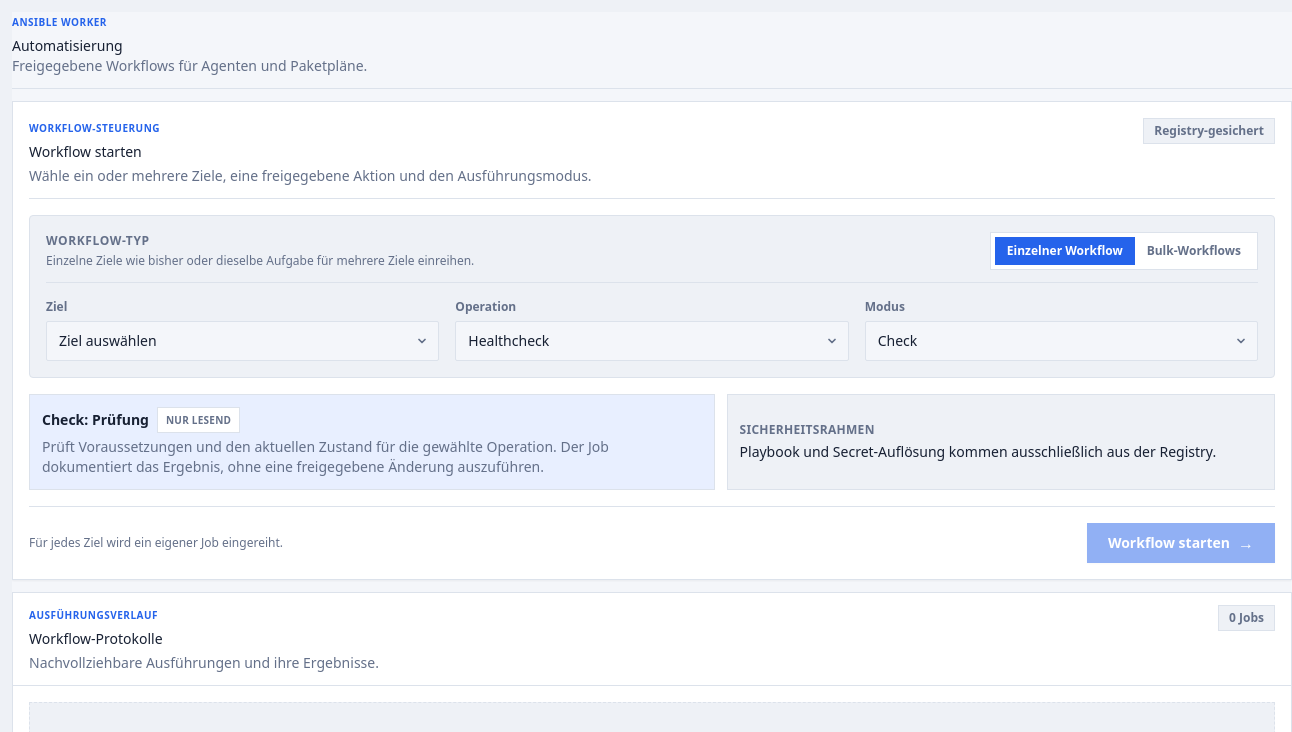
workflow mode contract › keeps Apply disabled until the user explicitly confirms the target and scope
Select "lxc-test · lxc · 192.0.2.1" in the dropdown labelled "Ziel" at (243, 341), box [46,321,439,361]
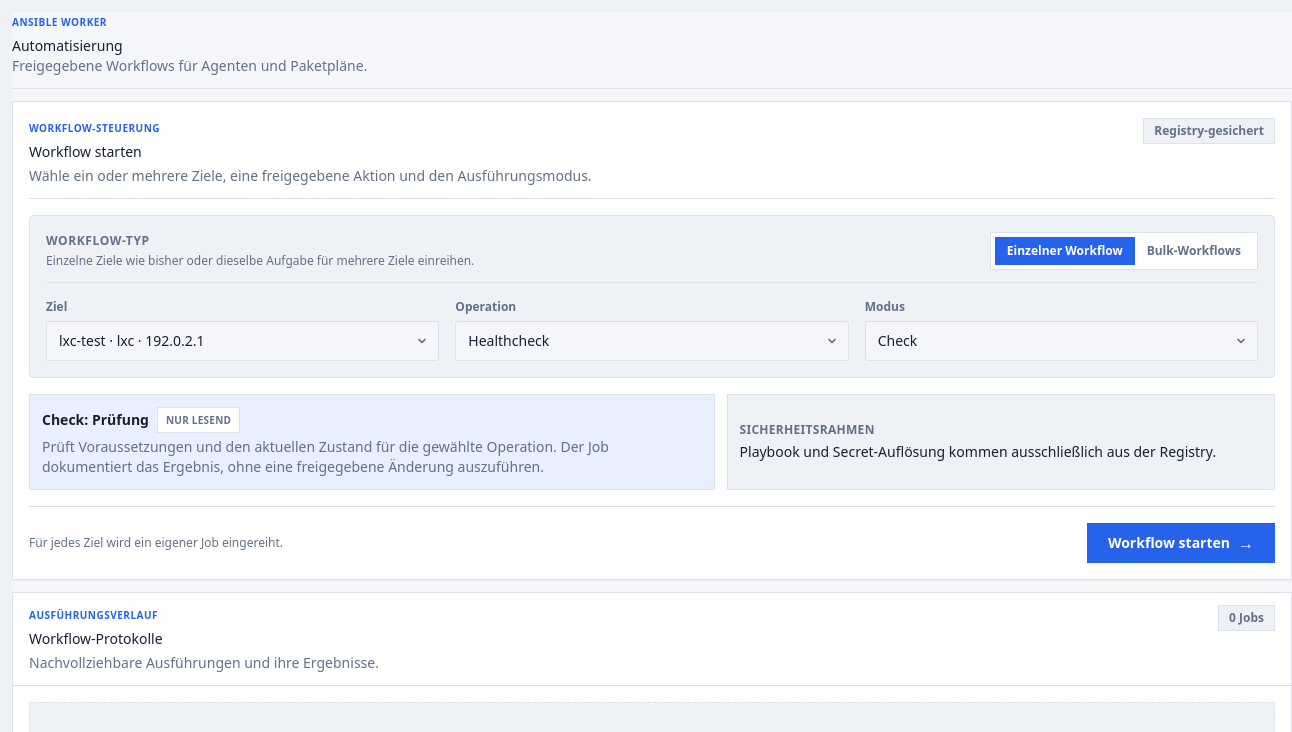
Select "Agent installieren" in the dropdown labelled "Operation" at (652, 341), box [455,321,849,361]
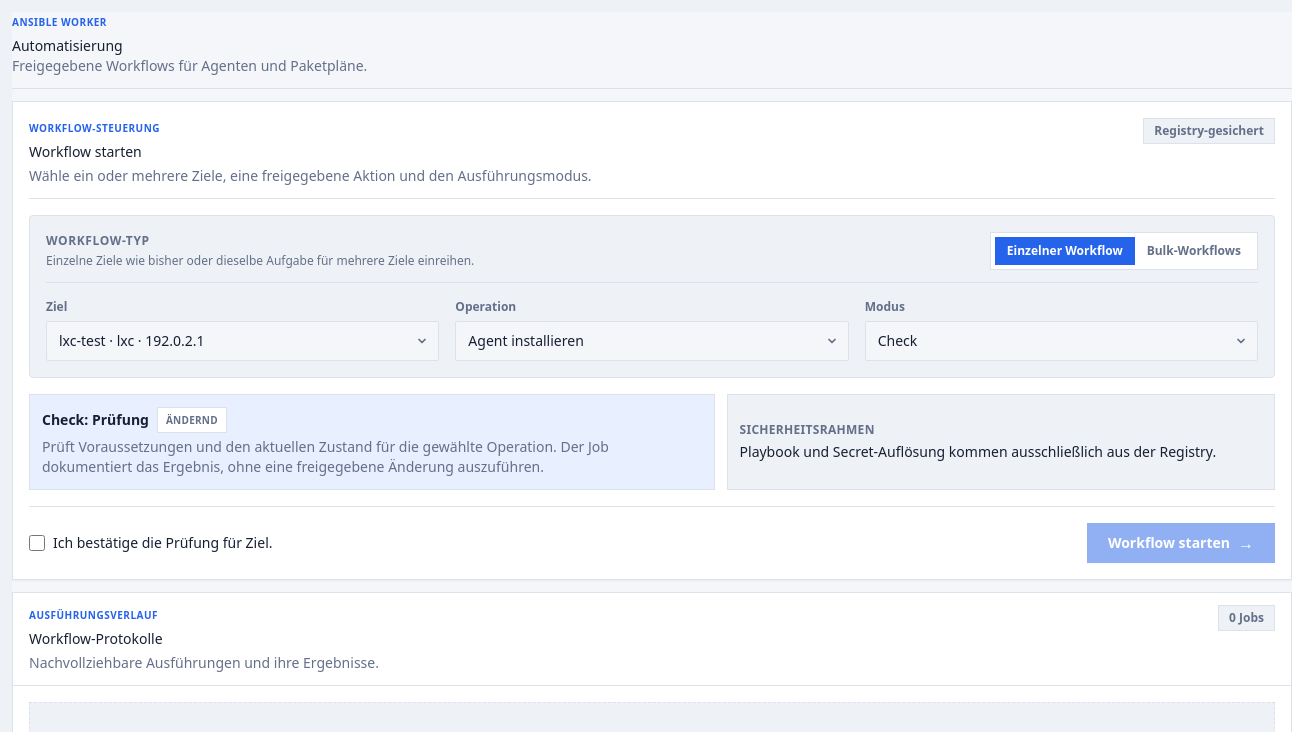
Select "Apply" in the dropdown labelled "Modus" at (1061, 341), box [865,321,1258,361]
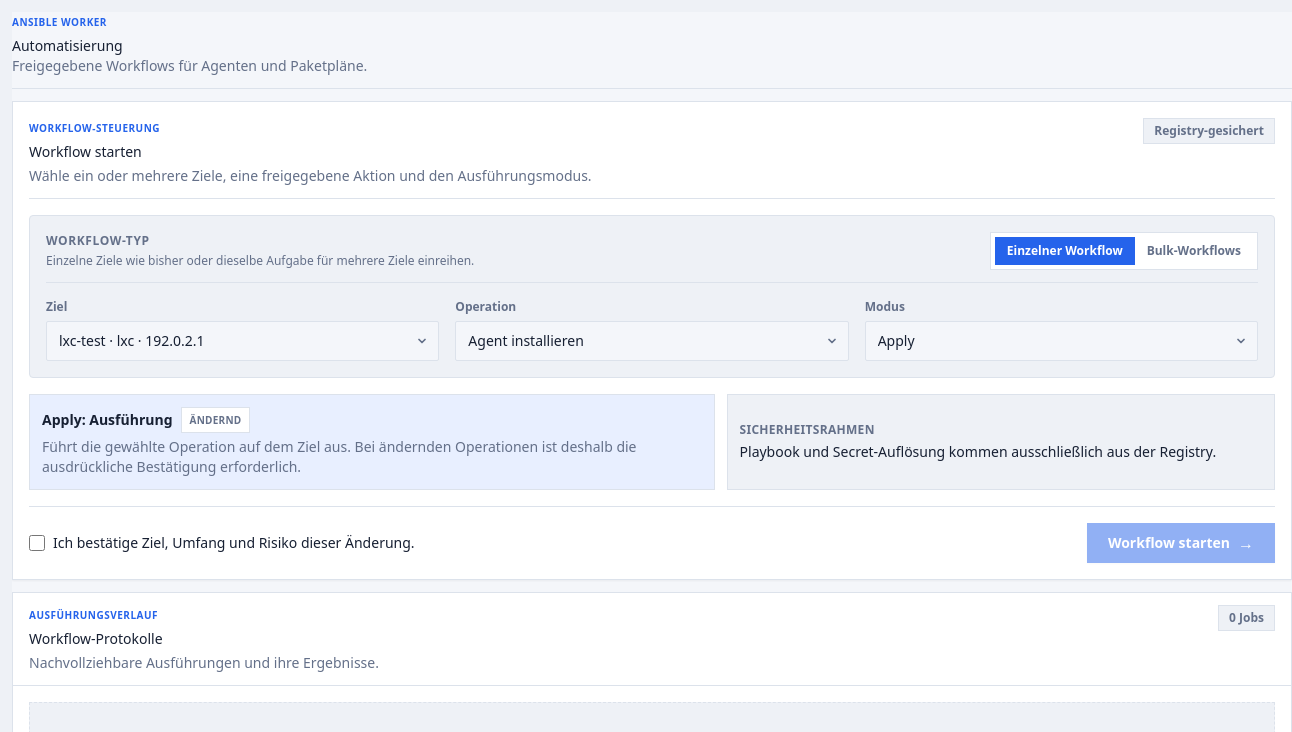
expect the button "Workflow starten →" is disabled: met, box [1087,523,1275,563]
Click the checkbox labelled "Ich bestätige Ziel, Umfang und Risiko dieser Änderung." at (37, 543), box [29,535,45,551]
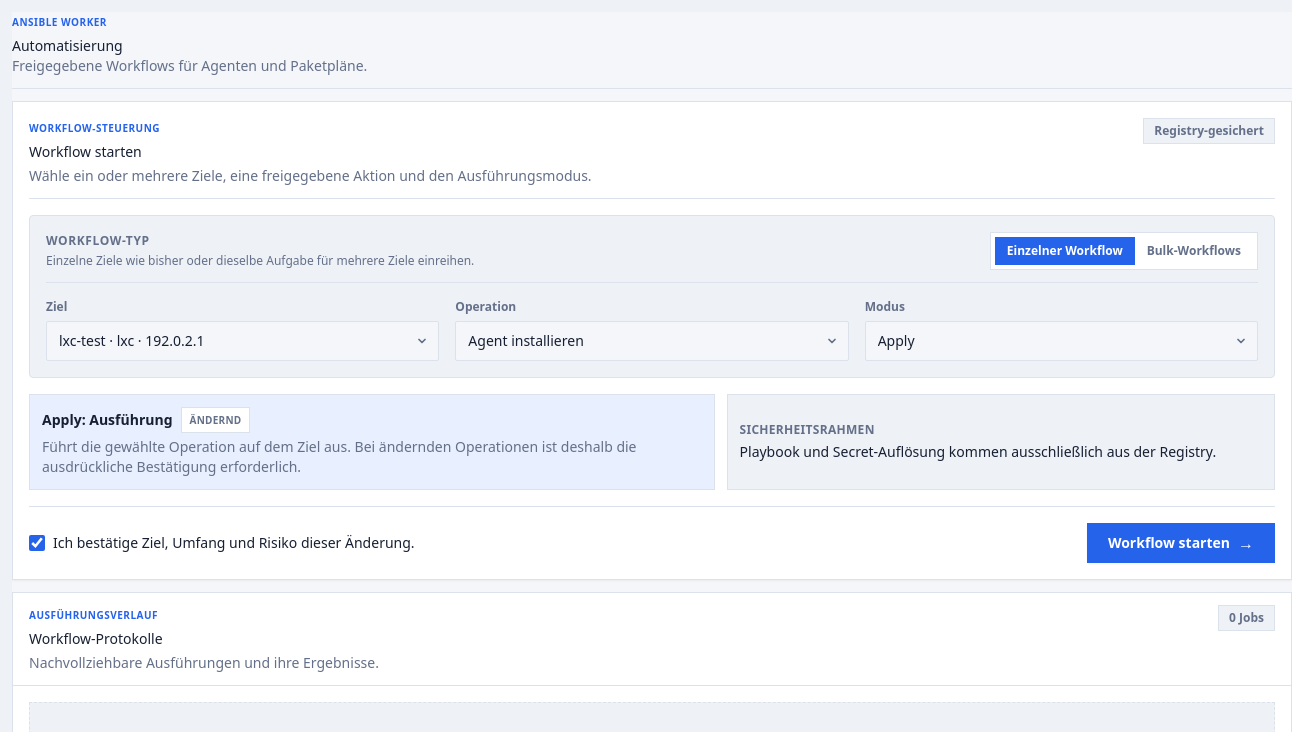
expect the button "Workflow starten →" is enabled: met, box [1087,523,1275,563]
